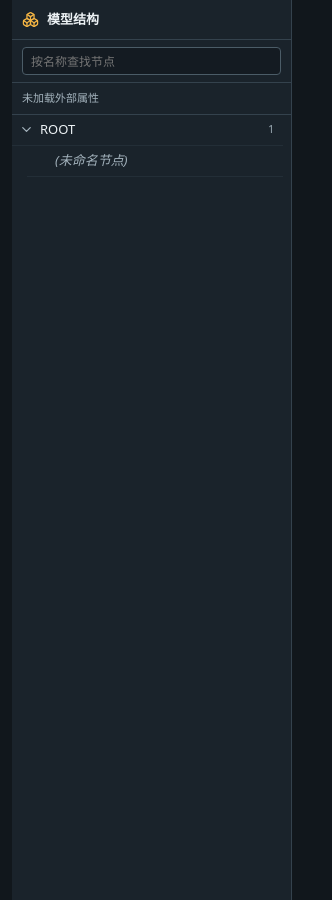
Test: model information panels › searches nodes by name and locates a picked result
The width and height of the screenshot is (332, 900).
In the search field labelled "按名称查找节点": (152, 61) [22,47,281,75], type "root"
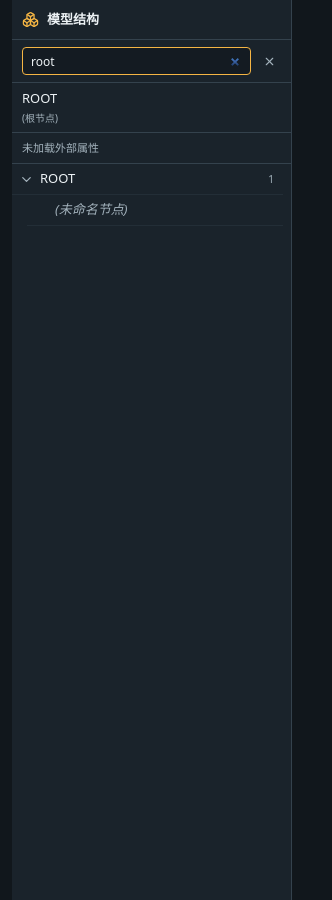
Click the button "ROOT (根节点)": (40, 98) [12,83,291,132]
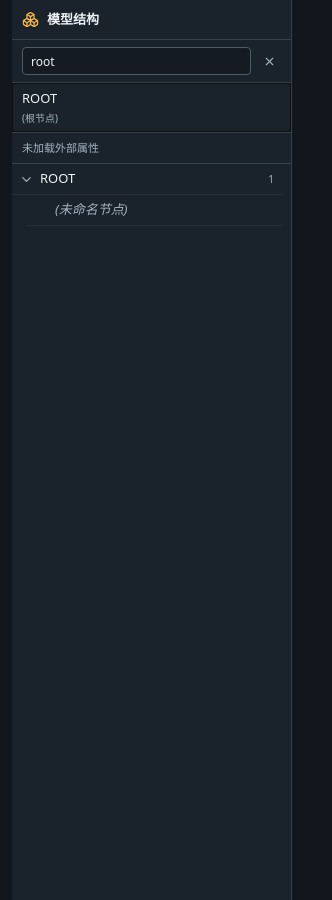
Click the button named "清除查找": (269, 61) [257,49,281,73]
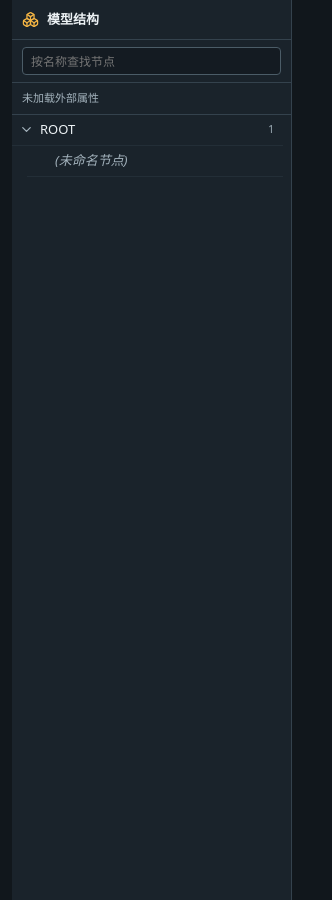
Now the button "ROOT (根节点)" is gone
In the search field labelled "按名称查找节点": (152, 61) [22,47,281,75], type "不存在"
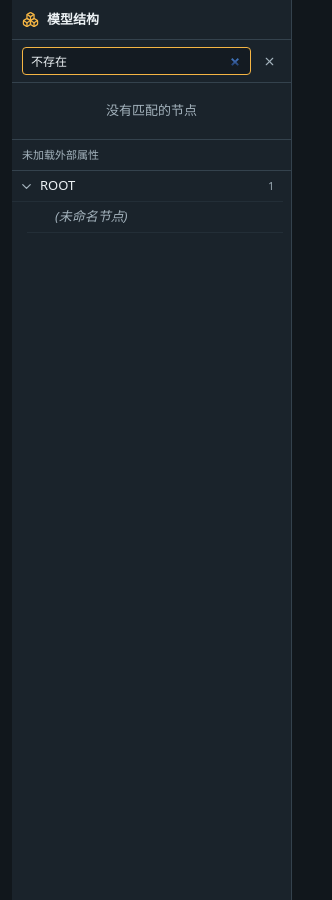
Now the text "没有匹配的节点" is shown, box [106,101,197,119]
